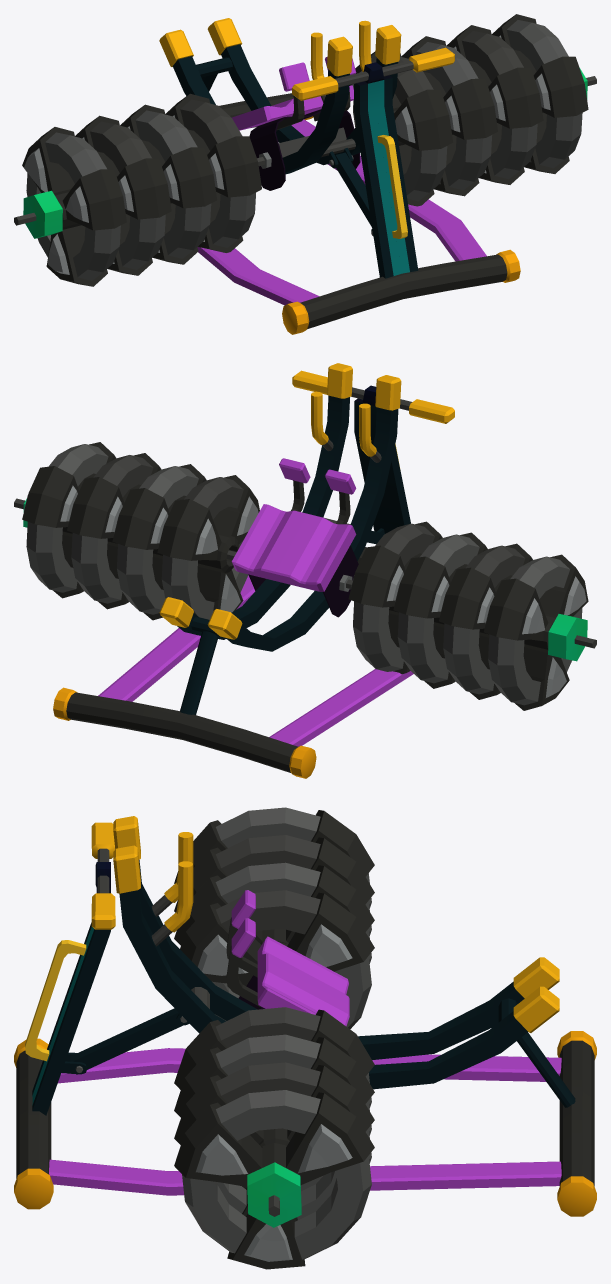
Rendered from chest-machine.fbx.
The picture shows the model from 3 angles, top to bottom: view 1: azimuth 30°, elevation 25°; view 2: azimuth 150°, elevation 25°; view 3: azimuth 270°, elevation 25°; orthographic projection. The views are drawn at different scales.
Parts seen in each view (by area): view 1: Dumbblle Stand-3_MaHa LPMW materials_0.001, Dumbblle Stand-3_MaHa LPMW materials_0.007; view 2: Dumbblle Stand-3_MaHa LPMW materials_0.001, Dumbblle Stand-3_MaHa LPMW materials_0.007; view 3: Dumbblle Stand-3_MaHa LPMW materials_0.001, Dumbblle Stand-3_MaHa LPMW materials_0.007.
Boxes of the visible parts, box(x1,y1,x2,y2) form: Dumbblle Stand-3_MaHa LPMW materials_0.001: box(14, 14, 596, 286); Dumbblle Stand-3_MaHa LPMW materials_0.007: box(159, 18, 520, 334); Dumbblle Stand-3_MaHa LPMW materials_0.001: box(14, 442, 596, 710); Dumbblle Stand-3_MaHa LPMW materials_0.007: box(53, 363, 454, 778); Dumbblle Stand-3_MaHa LPMW materials_0.001: box(174, 807, 374, 1269); Dumbblle Stand-3_MaHa LPMW materials_0.007: box(14, 816, 596, 1216).
Bounding box in the file's own units: 3.75 × 1.51 × 2.61.
